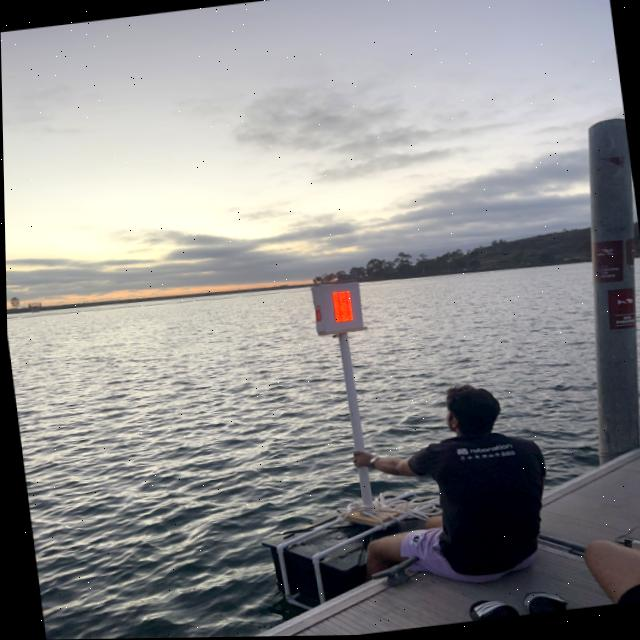led: (317, 278, 361, 334)
